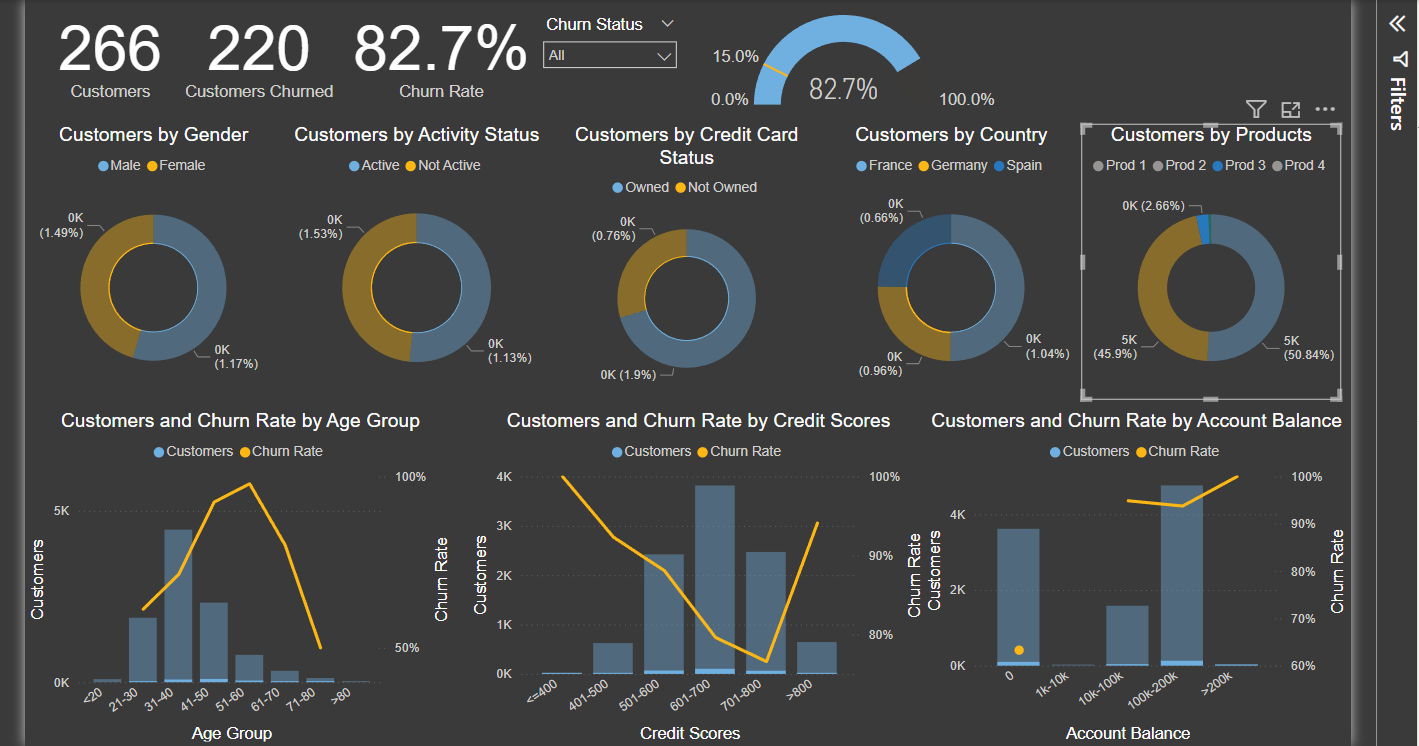

This screenshot's page, from the dashboard's own definition file:
{"tool":"powerbi","page":{"name":"Page 1","canvas":[1280,720],"ordinal":0},"visuals":[{"type":"card","fields":{"Values":["Customer Data.Customers"]},"box":[9.8,0,145.5,101.5],"z":0},{"type":"card","fields":{"Values":["Customer Data.Customers Churned"]},"box":[146.8,0,157.8,101.5],"z":1},{"type":"card","fields":{"Values":["Customer Data.Churn Rate"]},"box":[304.6,0,193.5,101.5],"z":2},{"type":"donutChart","fields":{"Category":["Customer Data.Gender"],"Y":["Customer Data.Customers"]},"box":[0,119.4,248.4,266.2],"z":3},{"type":"donutChart","fields":{"Y":["Customer Data.Customers"],"Category":["Customer Data.Activity Status"]},"box":[248.4,119.4,259.3,266.2],"z":4},{"type":"donutChart","fields":{"Y":["Customer Data.Customers"],"Category":["Customer Data.Credit Card Status"]},"box":[509.1,119.4,259.3,266.2],"z":5},{"type":"donutChart","fields":{"Y":["Customer Data.Customers"],"Category":["Customer Data.Country"]},"box":[768.4,119.4,251.1,266.2],"z":6},{"type":"donutChart","fields":{"Y":["Customer Data.Customers"],"Category":["Customer Data.Products"]},"box":[1019.6,119.4,251.1,266.2],"z":7},{"type":"lineClusteredColumnComboChart","fields":{"Category":["Age Group ID.Age Group"],"Y":["Customer Data.Customers"],"Y2":["Customer Data.Churn Rate"]},"box":[0,395.2,415.8,325.2],"z":8},{"type":"lineClusteredColumnComboChart","fields":{"Y":["Customer Data.Customers"],"Y2":["Customer Data.Churn Rate"],"Category":["Credit Scores ID.Credit Scores"]},"box":[426.8,395.2,446,325.2],"z":9},{"type":"lineClusteredColumnComboChart","fields":{"Y":["Customer Data.Customers"],"Y2":["Customer Data.Churn Rate"],"Category":["Acct Balance ID.Account Balance"]},"box":[864.5,395.2,415.8,325.2],"z":10},{"type":"slicer","fields":{"Values":["Customer Data.Churn Status"]},"box":[489.9,9.6,149.6,91.9],"z":11},{"type":"gauge","fields":{"Y":["Customer Data.Churn Rate"],"MinValue":["Min(Customer Data.Minimum Churn Rate)"],"MaxValue":["Max(Customer Data.Maximum Churn Rate)"],"TargetValue":["Min(Customer Data.Target Churn Rate)"]},"box":[650.4,9.6,297.8,101.5],"z":12}]}

Visuals, with their boxes in screenshot pixels (x1, y1, x2, y2):
card - Customer Data.Customers: bbox=[51, 18, 199, 122]
card - Customer Data.Customers Churned: bbox=[191, 18, 352, 122]
card - Customer Data.Churn Rate: bbox=[352, 18, 550, 122]
donutChart - Customer Data.Gender x Customer Data.Customers: bbox=[41, 141, 295, 413]
donutChart - Customer Data.Customers x Customer Data.Activity Status: bbox=[295, 141, 560, 413]
donutChart - Customer Data.Customers x Customer Data.Credit Card Status: bbox=[561, 141, 826, 413]
donutChart - Customer Data.Customers x Customer Data.Country: bbox=[826, 141, 1083, 413]
donutChart - Customer Data.Customers x Customer Data.Products: bbox=[1083, 141, 1340, 413]
lineClusteredColumnComboChart - Age Group ID.Age Group x Customer Data.Customers: bbox=[41, 423, 466, 745]
lineClusteredColumnComboChart - Customer Data.Customers x Customer Data.Churn Rate: bbox=[477, 423, 933, 745]
lineClusteredColumnComboChart - Customer Data.Customers x Customer Data.Churn Rate: bbox=[925, 423, 1350, 745]
slicer - Customer Data.Churn Status: bbox=[542, 28, 694, 122]
gauge - Customer Data.Churn Rate x Min(Customer Data.Minimum Churn Rate): bbox=[706, 28, 1010, 132]
